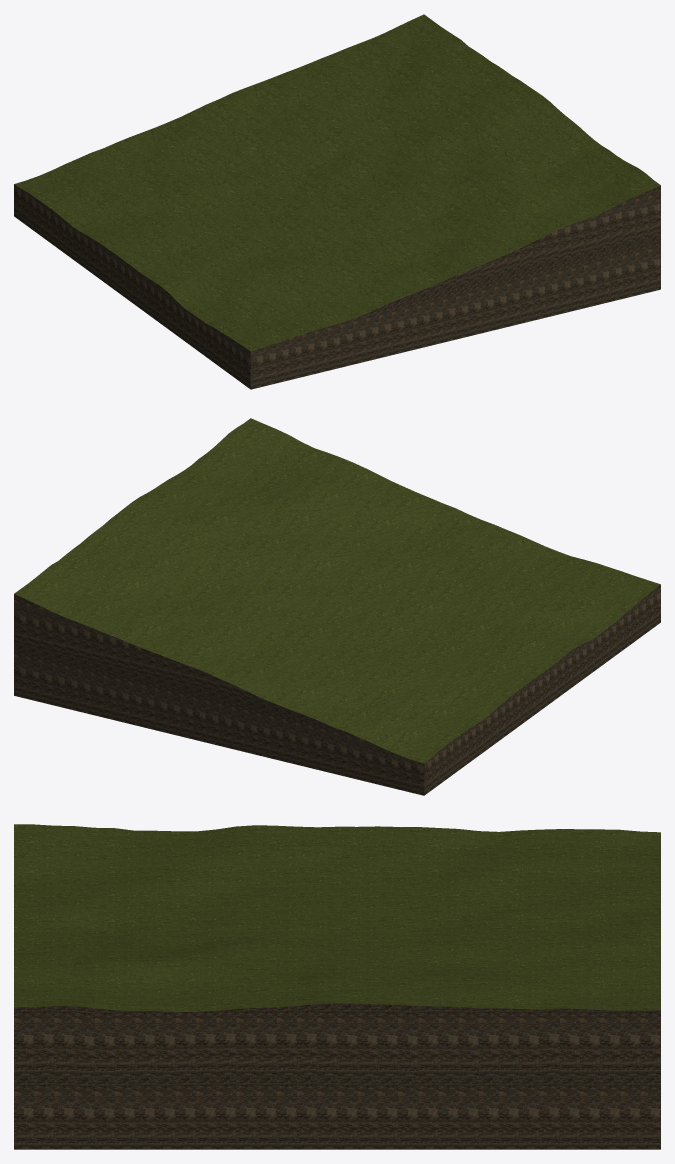
Rendered from hill_slope_01.glb.
3 views of the same model, one above another, from view 1: azimuth 30°, elevation 25°; view 2: azimuth 150°, elevation 25°; view 3: azimuth 270°, elevation 25° (orthographic). The views are drawn at different scales.
Visible parts, largest first — view 1: hill_slope_01; view 2: hill_slope_01; view 3: hill_slope_01.
Part boxes in pixels (x1,y1,x2,y2): hill_slope_01: [14, 14, 660, 389]; hill_slope_01: [14, 418, 660, 795]; hill_slope_01: [14, 824, 660, 1149].
Bounding box in the file's own units: 16 × 3.99 × 16.
Materials: 2 (2 with a texture image).
